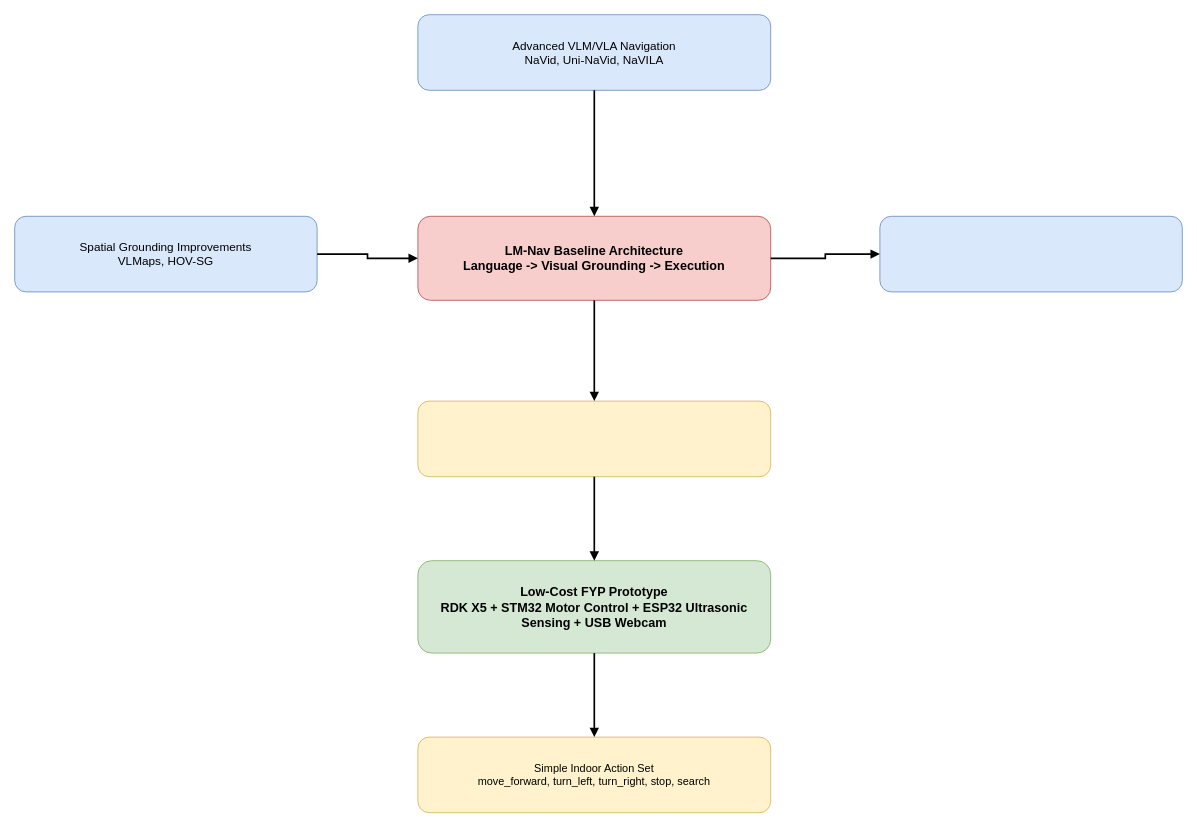
This 1197x827 diagram has some shape labels left out. Each missing label, with the centre of its shape:
Navigation Execution Improvements ViNT, NoMaD: (1030,253)
Prompt-Based Action Selection VLMnav: (594,438)
